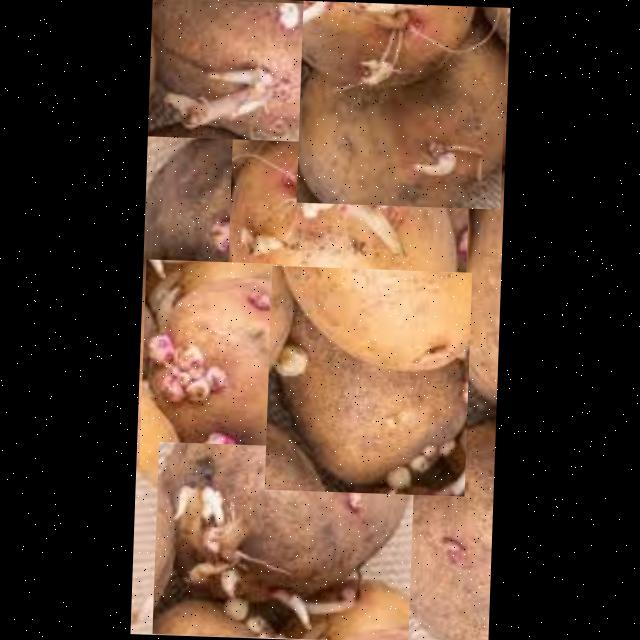Sprouted potato: (224, 104, 471, 380), (152, 440, 415, 640), (264, 264, 472, 495), (296, 0, 507, 208), (139, 258, 282, 472), (147, 0, 304, 140)
